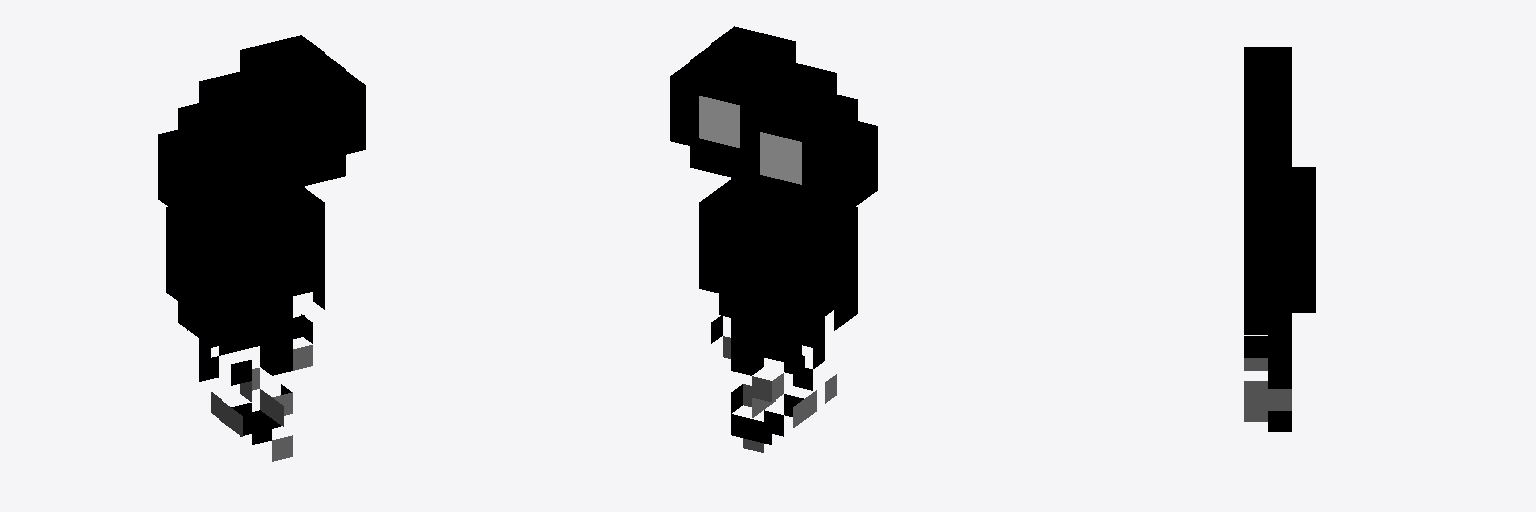
3 renders of one model, left to right at view 1: azimuth 30°, elevation 25°; view 2: azimuth 150°, elevation 25°; view 3: azimuth 270°, elevation 25°, orthographic.
Parts seen in each view (by area): view 1: cube; view 2: cube; view 3: cube.
Part boxes in pixels (left/top/right/bottom): cube: left=158, top=35, right=365, bottom=461; cube: left=670, top=26, right=877, bottom=452; cube: left=1244, top=47, right=1315, bottom=431.
Size of the model in its own units: 9 by 19 by 3.
1 materials, 1 textured.